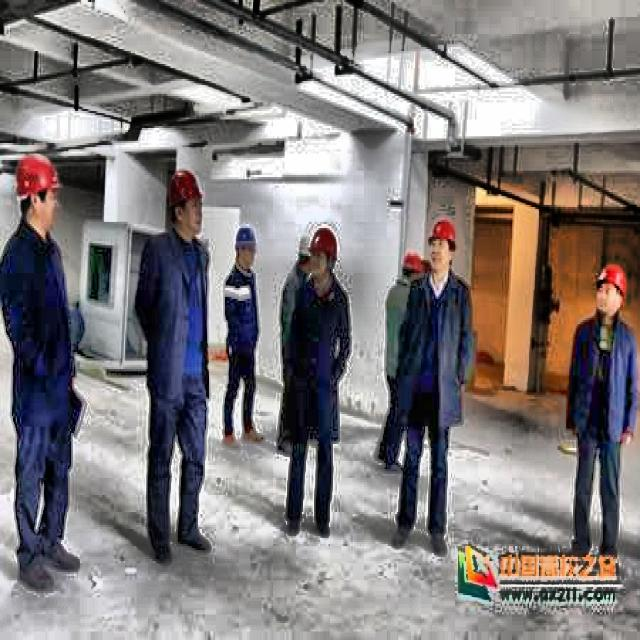helmet: (14, 147, 63, 239), (166, 166, 209, 241), (590, 263, 630, 322), (425, 216, 461, 275), (306, 226, 337, 284), (235, 220, 258, 271), (292, 228, 314, 271), (400, 243, 421, 288)
